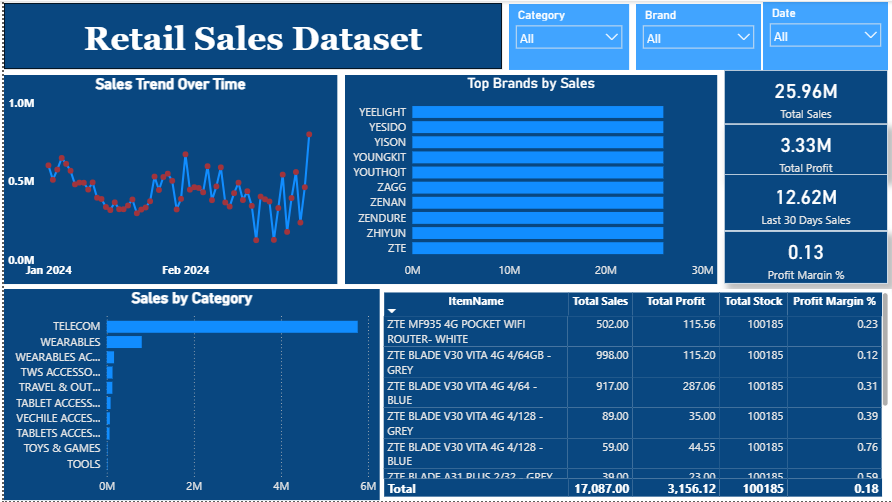

Layout of this report page (visuals, bound fields, positions):
{"tool":"powerbi","page":{"name":"Page 1","canvas":[1280,720],"ordinal":0},"visuals":[{"type":"card","fields":{"Values":["sales.Total Sales"]},"box":[1036.8,99.4,236.2,77.8],"z":0},{"type":"card","fields":{"Values":["sales.Total Profit"]},"box":[1036.8,177.1,236.2,77.8],"z":1000},{"type":"card","fields":{"Values":["sales.Profit Margin %"]},"box":[1036.8,331.2,236.2,76.3],"z":2000},{"type":"card","fields":{"Values":["sales.Last 30 Days Sales"]},"box":[1036.8,249.1,236.2,82.1],"z":3000},{"type":"lineChart","title":"Sales Trend Over Time","fields":{"Y":["sales.Total Sales","select"],"Category":["sales.Date"]},"box":[0,106.6,479.5,301],"z":4000},{"type":"clusteredBarChart","title":"Sales by Category","fields":{"Category":["sales.Category"],"Y":["sales.Total Sales"]},"box":[0,414.7,541.4,303.8],"z":5000},{"type":"barChart","title":"Top Brands by Sales","fields":{"Y":["sales.Total Sales"],"Category":["stock.Brand"]},"box":[491,106.6,535.7,301],"z":6000},{"type":"slicer","fields":{"Values":["sales.Date"]},"box":[1093,1.4,180,97.9],"z":7000},{"type":"slicer","fields":{"Values":["sales.Category"]},"box":[727.2,4.3,172.8,95],"z":8000},{"type":"slicer","fields":{"Values":["sales.Brand"]},"box":[910.1,4.3,180,95],"z":9000},{"type":"textbox","box":[0,2.9,717.1,95],"z":10000},{"type":"tableEx","fields":{"Values":["sales.ItemName","sales.Total Sales","sales.Total Profit","stock.Total Stock","sales.Profit Margin %"]},"box":[541.4,414.7,737.3,303.8],"z":10001}]}

Visuals, with their boxes in screenshot pixels (x1, y1, x2, y2), scaled from the page's 1280x720 canvas onto the 892x502 screenshot:
card - sales.Total Sales: (x1=723, y1=69, x2=887, y2=124)
card - sales.Total Profit: (x1=723, y1=123, x2=887, y2=178)
card - sales.Profit Margin %: (x1=723, y1=231, x2=887, y2=284)
card - sales.Last 30 Days Sales: (x1=723, y1=174, x2=887, y2=231)
"Sales Trend Over Time" lineChart: (x1=0, y1=74, x2=334, y2=284)
"Sales by Category" clusteredBarChart: (x1=0, y1=289, x2=377, y2=501)
"Top Brands by Sales" barChart: (x1=342, y1=74, x2=715, y2=284)
slicer - sales.Date: (x1=762, y1=1, x2=887, y2=69)
slicer - sales.Category: (x1=507, y1=3, x2=627, y2=69)
slicer - sales.Brand: (x1=634, y1=3, x2=760, y2=69)
textbox: (x1=0, y1=2, x2=500, y2=68)
tableEx - sales.ItemName x sales.Total Sales: (x1=377, y1=289, x2=891, y2=501)
